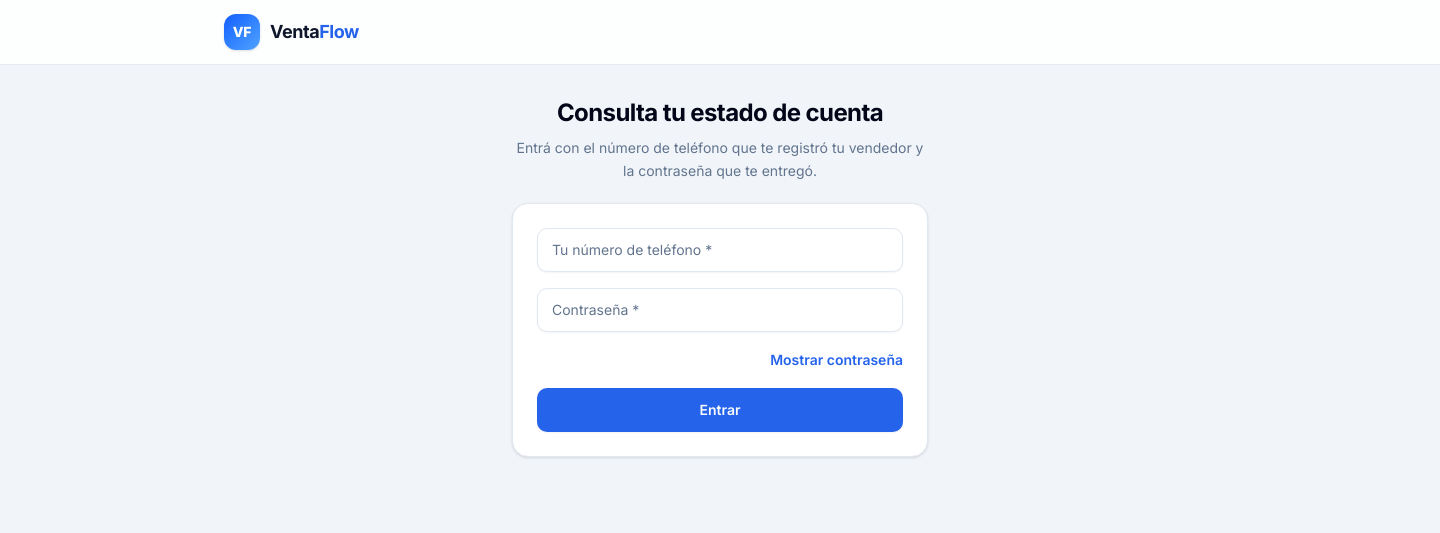
Test: ClientAuthScreen › un login fallido muestra el error traducido
This screenshot has width=1440, height=533.
Type "88887777" into the field with placeholder "Tu número de teléfono *" at [720, 250], box [537,228,903,272]
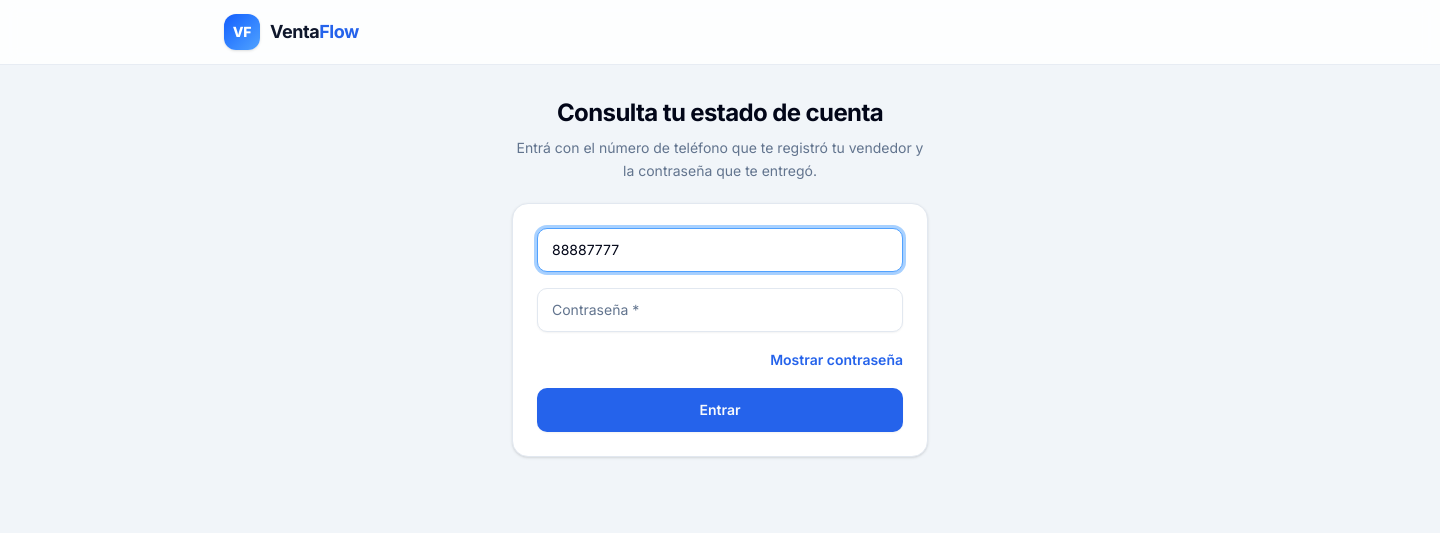
Type "mala" into the password field with placeholder "Contraseña *" at [720, 310], box [537,288,903,332]
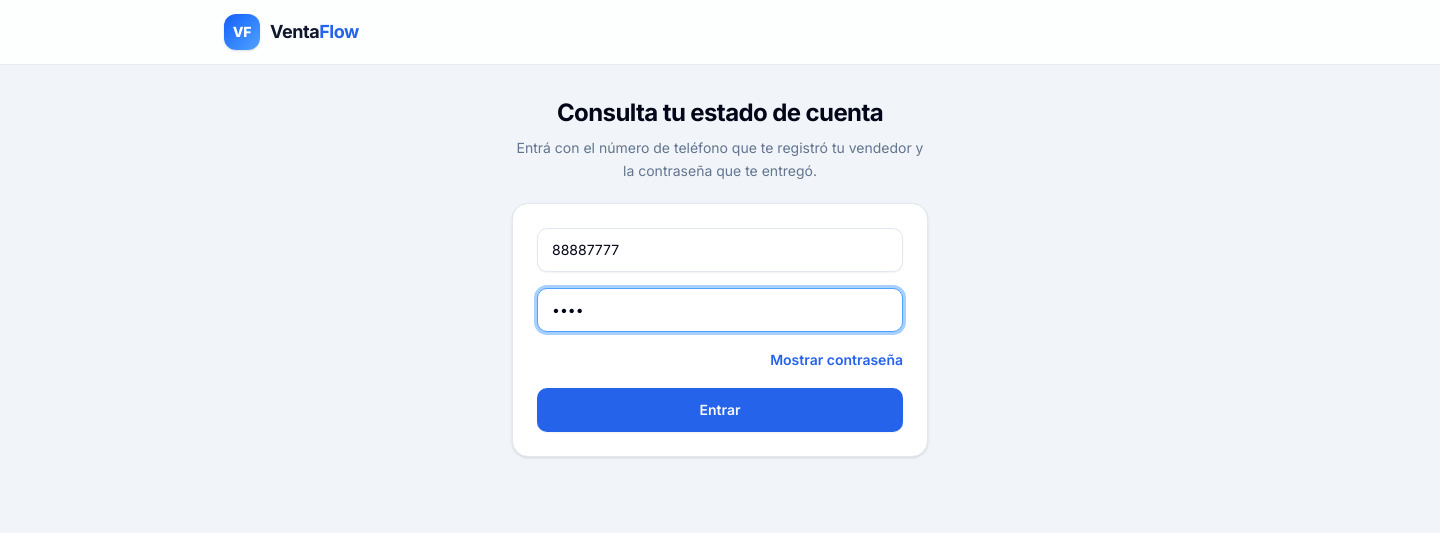
Click the button "Entrar" at [720, 410], box [537,388,903,432]
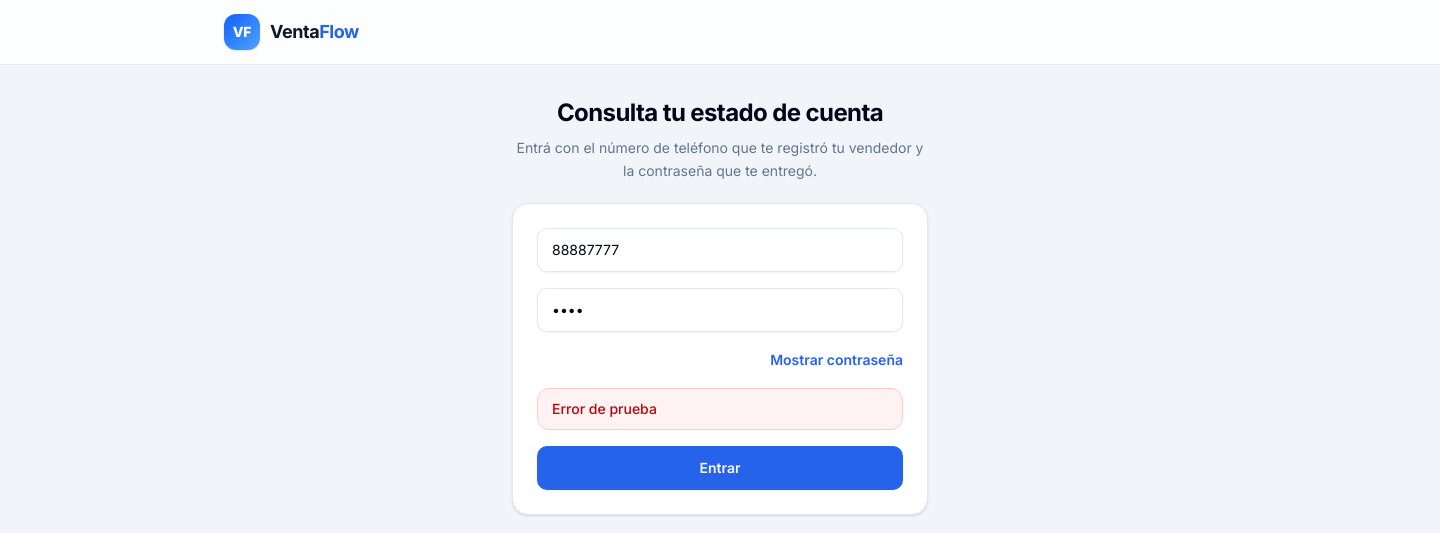
Check: the text "Error de prueba" is shown, box [537,388,903,430]
